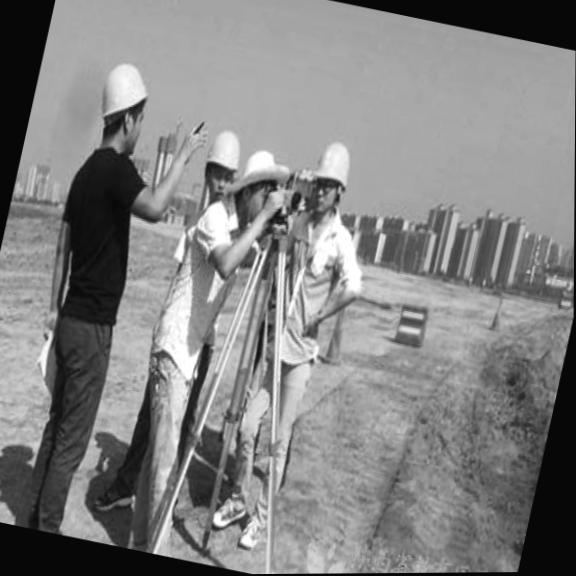no_safety_vest: (29, 146, 151, 339), (259, 202, 377, 373), (152, 195, 253, 373)
